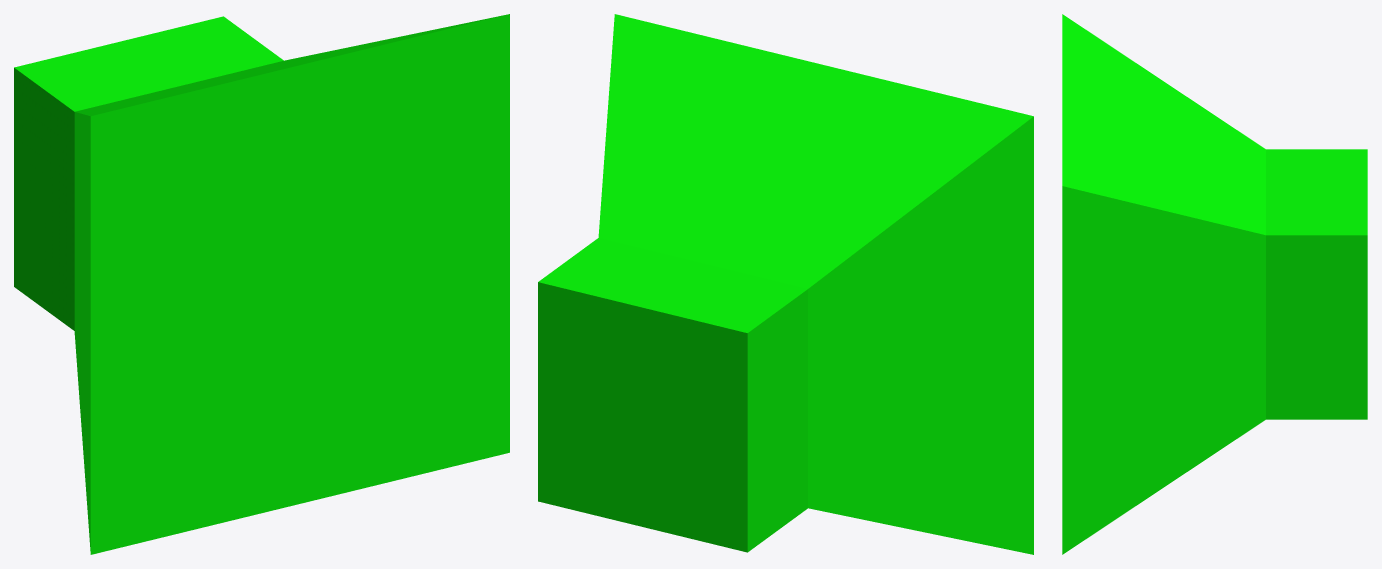
3 renders of one model, left to right at view 1: azimuth 30°, elevation 25°; view 2: azimuth 150°, elevation 25°; view 3: azimuth 270°, elevation 25°, orthographic. The views are drawn at different scales.
Visible parts, largest first — view 1: <STL_BINARY>; view 2: <STL_BINARY>; view 3: <STL_BINARY>.
Part boxes in pixels (bbox=[...]): <STL_BINARY>: bbox=[14, 14, 509, 554]; <STL_BINARY>: bbox=[538, 14, 1033, 554]; <STL_BINARY>: bbox=[1062, 14, 1367, 554].
Bounding box in the file's own units: 4 × 4 × 3.
